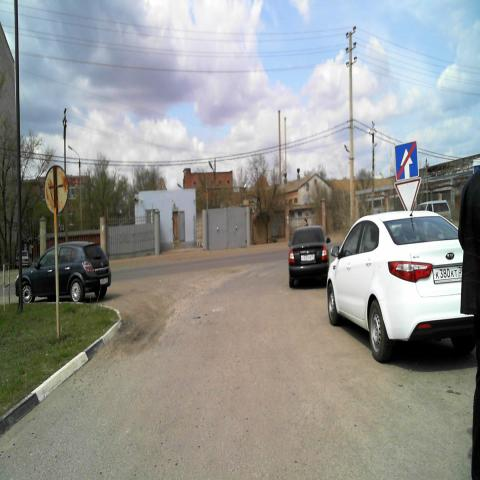2_4: (395, 176, 422, 215)
5_6: (393, 140, 420, 180)
